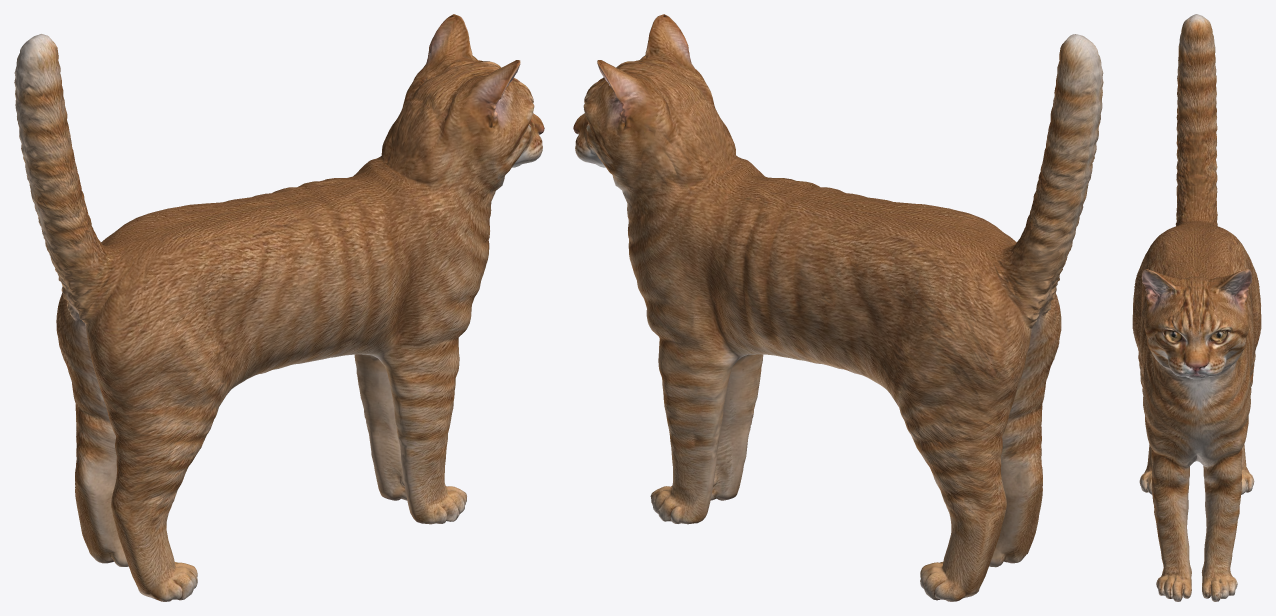
The model's file is DATASPOT.glb.
3 views of the same model, side by side, from view 1: azimuth 30°, elevation 25°; view 2: azimuth 150°, elevation 25°; view 3: azimuth 270°, elevation 25° (orthographic). The views are drawn at different scales.
Visible parts, largest first — view 1: tripo_node_e4fa30f5-2b5f-4322-94ac-64ed53b3e90f; view 2: tripo_node_e4fa30f5-2b5f-4322-94ac-64ed53b3e90f; view 3: tripo_node_e4fa30f5-2b5f-4322-94ac-64ed53b3e90f.
Boxes of the visible parts, x1,y1,x2,y2 form: tripo_node_e4fa30f5-2b5f-4322-94ac-64ed53b3e90f: (14,14,544,601); tripo_node_e4fa30f5-2b5f-4322-94ac-64ed53b3e90f: (573,14,1103,601); tripo_node_e4fa30f5-2b5f-4322-94ac-64ed53b3e90f: (1132,14,1261,601).
Bounding box in the file's own units: 0.9653 × 0.9996 × 0.2682.
1 material, 1 textured.
